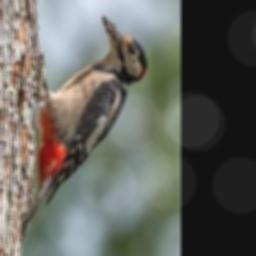Woodpecker: (20, 15, 147, 239)
